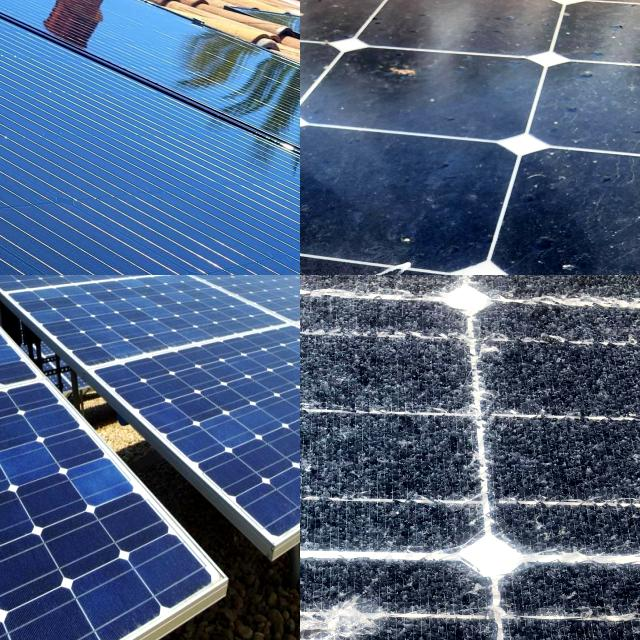crack: (4, 275, 297, 394), (0, 433, 162, 640), (0, 297, 130, 457), (173, 163, 300, 275), (0, 163, 123, 275), (172, 385, 300, 485), (185, 45, 300, 147), (1, 64, 121, 145), (81, 0, 201, 75), (0, 0, 64, 87), (0, 65, 51, 156), (0, 241, 132, 275), (0, 0, 64, 67), (0, 50, 63, 110), (0, 0, 29, 27)
hotspot: (300, 579, 464, 640)
